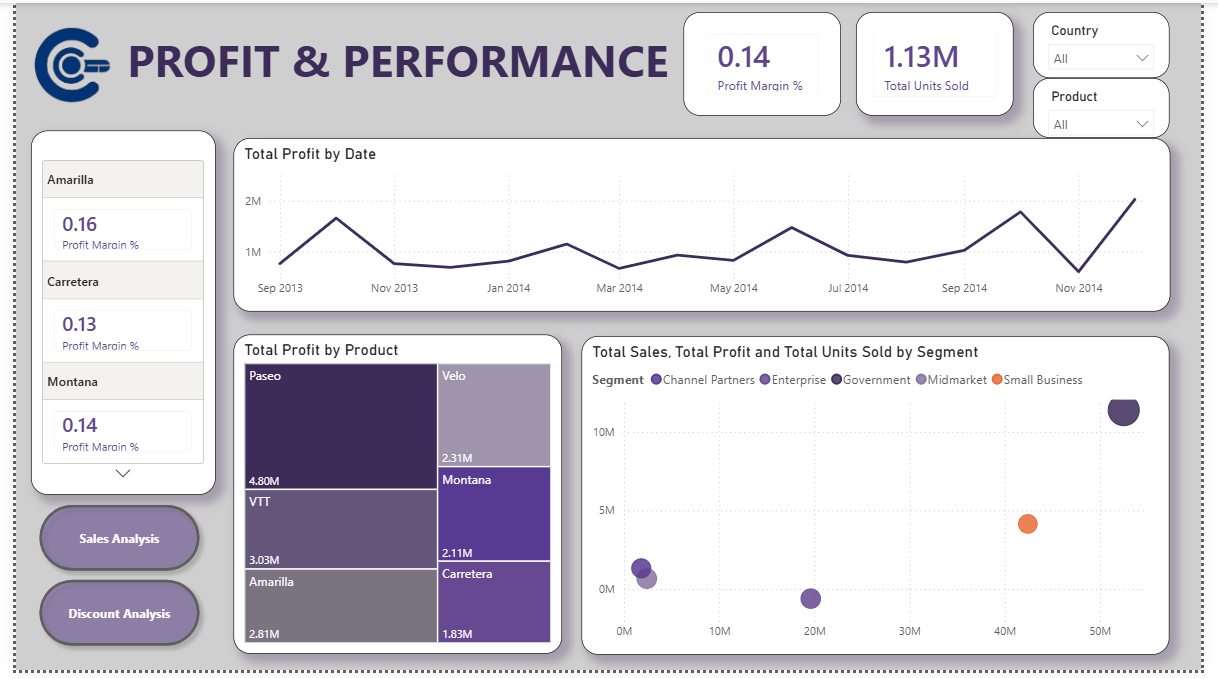

The dashboard page shown, as its layout file describes it:
{"tool":"powerbi","page":{"name":"Profit","canvas":[1280,720],"ordinal":1},"visuals":[{"type":"textbox","box":[115,22.7,702.7,85.8],"z":0},{"type":"lineChart","fields":{"Category":["Fact.Date"],"Y":["Sum(Fact.Profit)"]},"box":[234.3,145.5,1011,187.1],"z":1000},{"type":"scatterChart","fields":{"X":["Sum(Fact. Sales)"],"Y":["Sum(Fact.Profit)"],"Series":["Fact.Segment"],"Size":["Sum(Fact.Units Sold)"]},"box":[610.4,359.1,635,344],"z":2000},{"type":"treemap","fields":{"Group":["Fact.Product"],"Values":["Sum(Fact.Profit)"]},"box":[234.8,357.8,354.6,344.9],"z":3000},{"type":"cardVisual","fields":{"Rows":["Fact.Product"],"Data":["Fact.Profit Margin %"]},"box":[16.2,137.6,199.2,393.5],"z":4000},{"type":"cardVisual","fields":{"Data":["Sum(Fact.Units Sold)"]},"box":[906.8,9.7,170,111.7],"z":5000},{"type":"slicer","fields":{"Values":["Fact.Country"]},"box":[1097.8,9.7,147.3,71.2],"z":6000},{"type":"slicer","fields":{"Values":["Fact.Product"]},"box":[1097.8,81,147.3,64.8],"z":7000},{"type":"cardVisual","fields":{"Data":["Fact.Profit Margin %"]},"box":[720.6,9.7,170,111.7],"z":8000},{"type":"image","box":[0,22.7,121.4,90.7],"z":9000},{"type":"actionButton","box":[16.2,613.7,191.1,89.1],"z":10000},{"type":"actionButton","box":[16.2,532.7,191.1,89.1],"z":11000}]}

Visuals, with their boxes in screenshot pixels (x1, y1, x2, y2), scaled from the page's 1280x720 canvas onto the 1218x679 screenshot:
textbox: (109,21,778,102)
lineChart - Fact.Date x Sum(Fact.Profit): (223,137,1185,314)
scatterChart - Sum(Fact. Sales) x Sum(Fact.Profit): (581,339,1185,663)
treemap - Fact.Product x Sum(Fact.Profit): (223,337,561,663)
cardVisual - Fact.Product x Fact.Profit Margin %: (15,130,205,501)
cardVisual - Sum(Fact.Units Sold): (863,9,1025,114)
slicer - Fact.Country: (1045,9,1185,76)
slicer - Fact.Product: (1045,76,1185,137)
cardVisual - Fact.Profit Margin %: (686,9,847,114)
image: (0,21,116,107)
actionButton: (15,579,197,663)
actionButton: (15,502,197,586)
